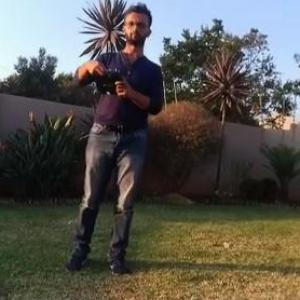follow: (58, 0, 166, 282)
